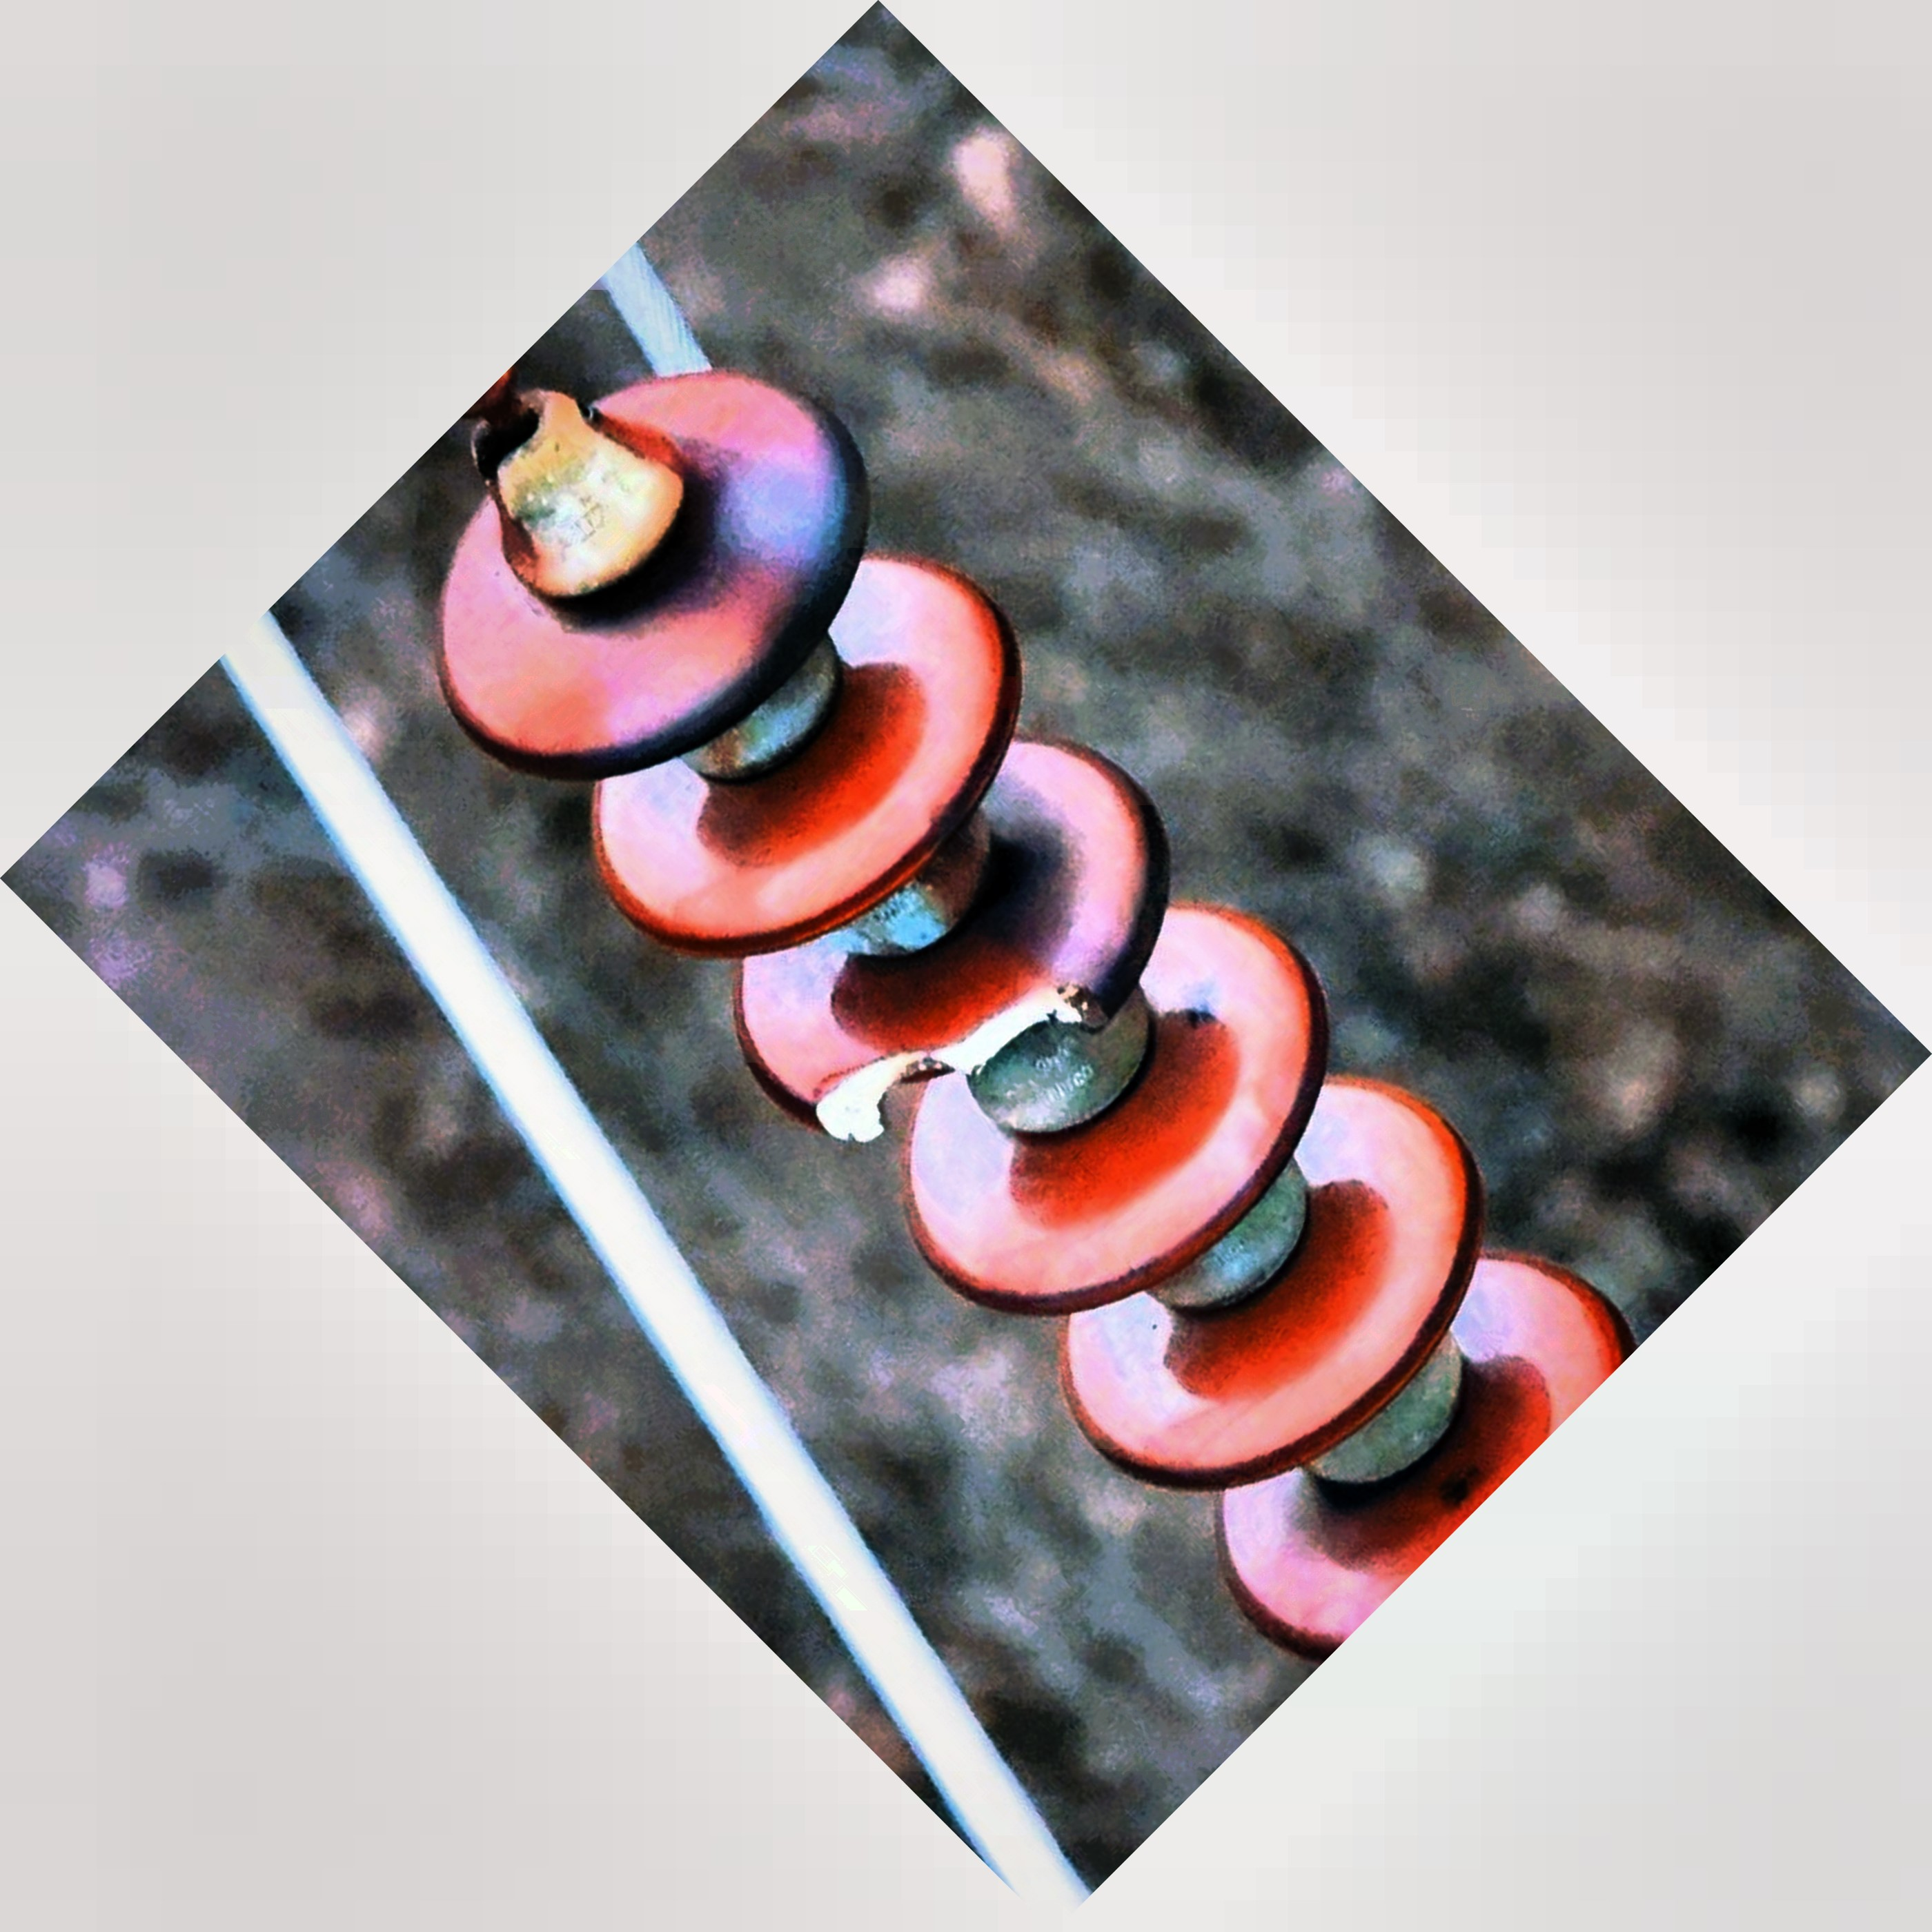insulator breakage: (724, 724, 1187, 1155)
